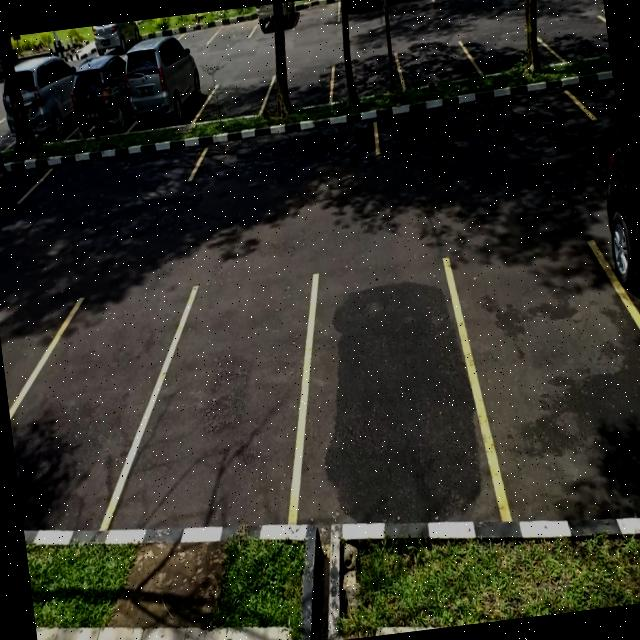empty: (284, 252, 490, 536), (449, 231, 640, 523), (132, 270, 310, 536), (0, 290, 159, 535), (369, 78, 587, 164), (186, 119, 382, 193), (17, 136, 210, 207), (464, 20, 552, 77), (324, 43, 405, 104), (394, 35, 474, 90), (198, 71, 276, 126), (264, 58, 338, 112), (543, 12, 610, 64), (202, 6, 258, 47), (291, 0, 342, 31)
occupied: (122, 45, 207, 136), (67, 61, 134, 142)
